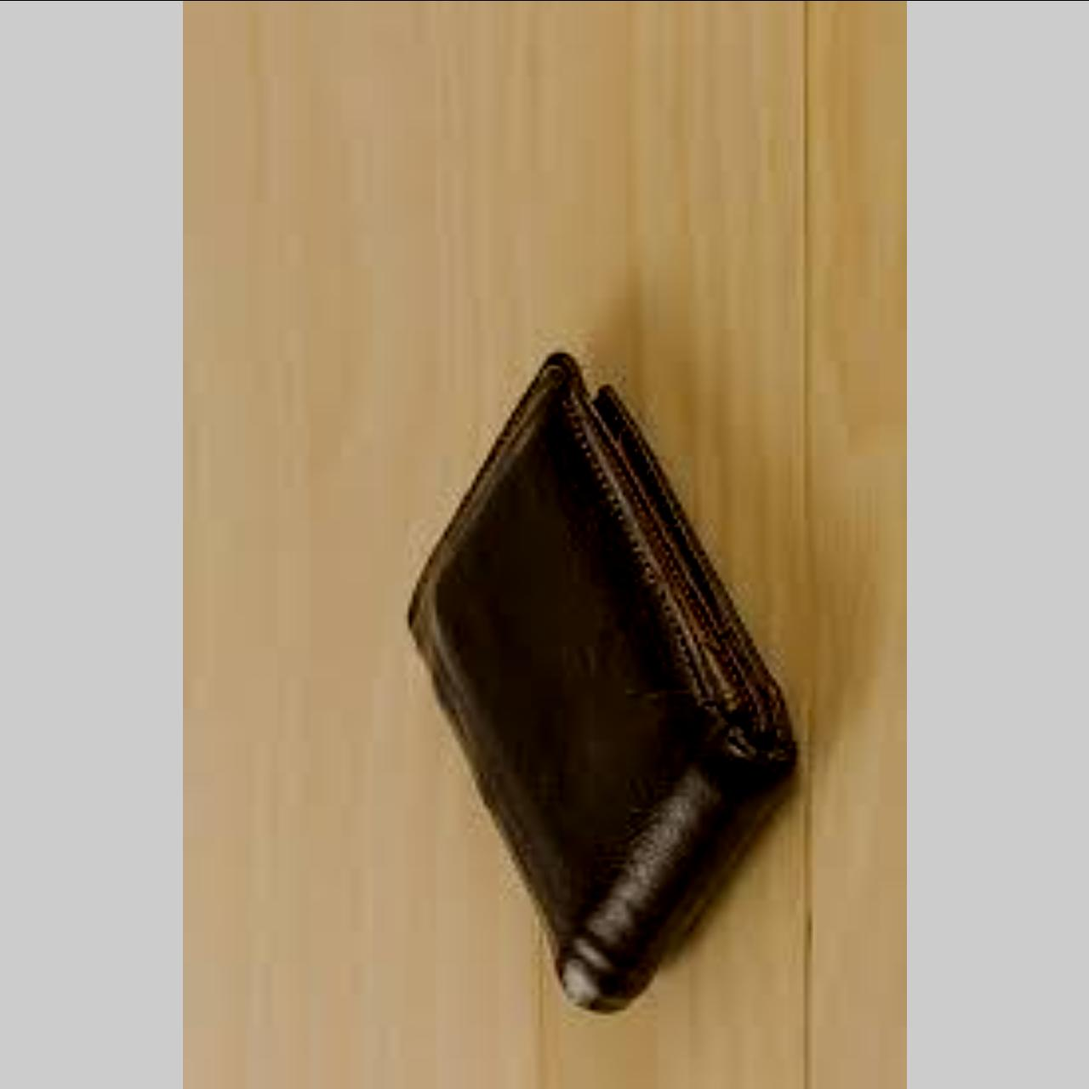wallet: (376, 341, 779, 1002)
